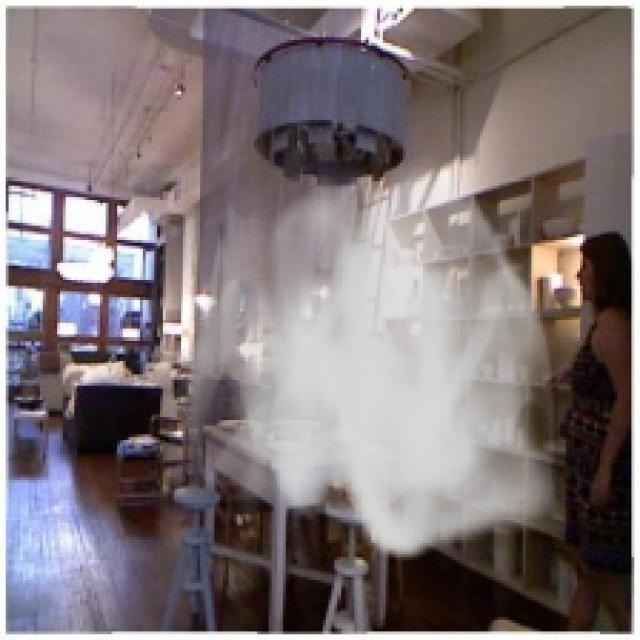Smoke: (162, 154, 568, 563)
